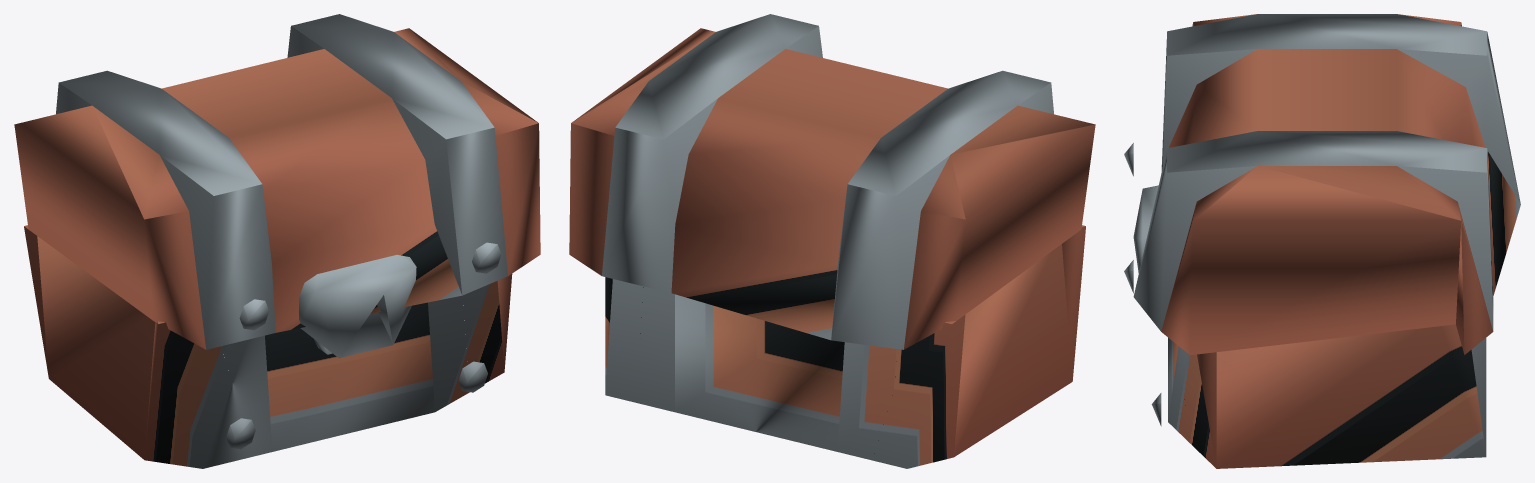
Rendered from chest-small.glb.
3 renders of one model, left to right at view 1: azimuth 30°, elevation 25°; view 2: azimuth 150°, elevation 25°; view 3: azimuth 270°, elevation 25°, orthographic. The views are drawn at different scales.
Parts seen in each view (by area): view 1: chest_lid, chest; view 2: chest_lid, chest; view 3: chest_lid, chest.
Part boxes in pixels (<box>): chest_lid: <box>14,14,540,358</box>; chest: <box>24,225,512,468</box>; chest_lid: <box>569,14,1095,349</box>; chest: <box>605,225,1085,468</box>; chest_lid: <box>1124,14,1520,355</box>; chest: <box>1151,324,1486,468</box>.
Size of the model in its own units: 1.7 by 1.16 by 1.43.
Materials: 1 (1 with a texture image).
